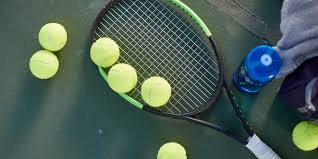tennis_ball: (37, 21, 68, 52), (141, 76, 171, 107), (28, 50, 60, 79), (107, 63, 137, 93), (90, 37, 119, 67), (292, 120, 318, 151), (157, 142, 186, 159)
